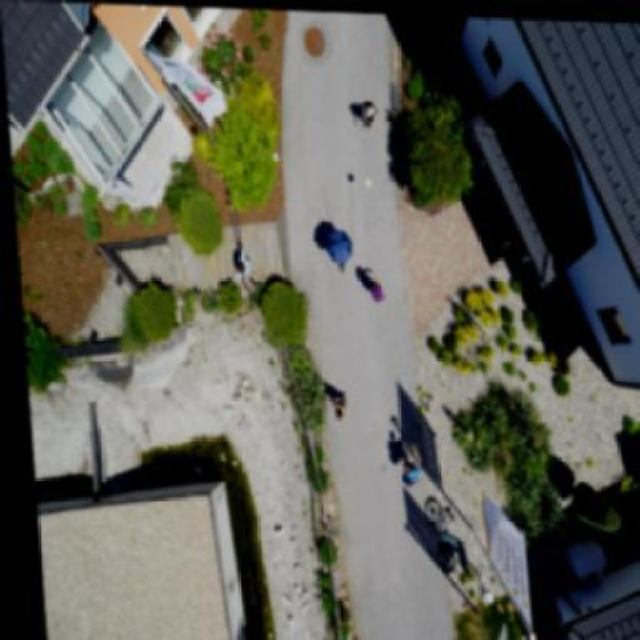Person: (390, 445, 425, 490), (228, 237, 260, 286), (354, 90, 386, 136), (323, 375, 348, 423), (363, 268, 385, 308)
